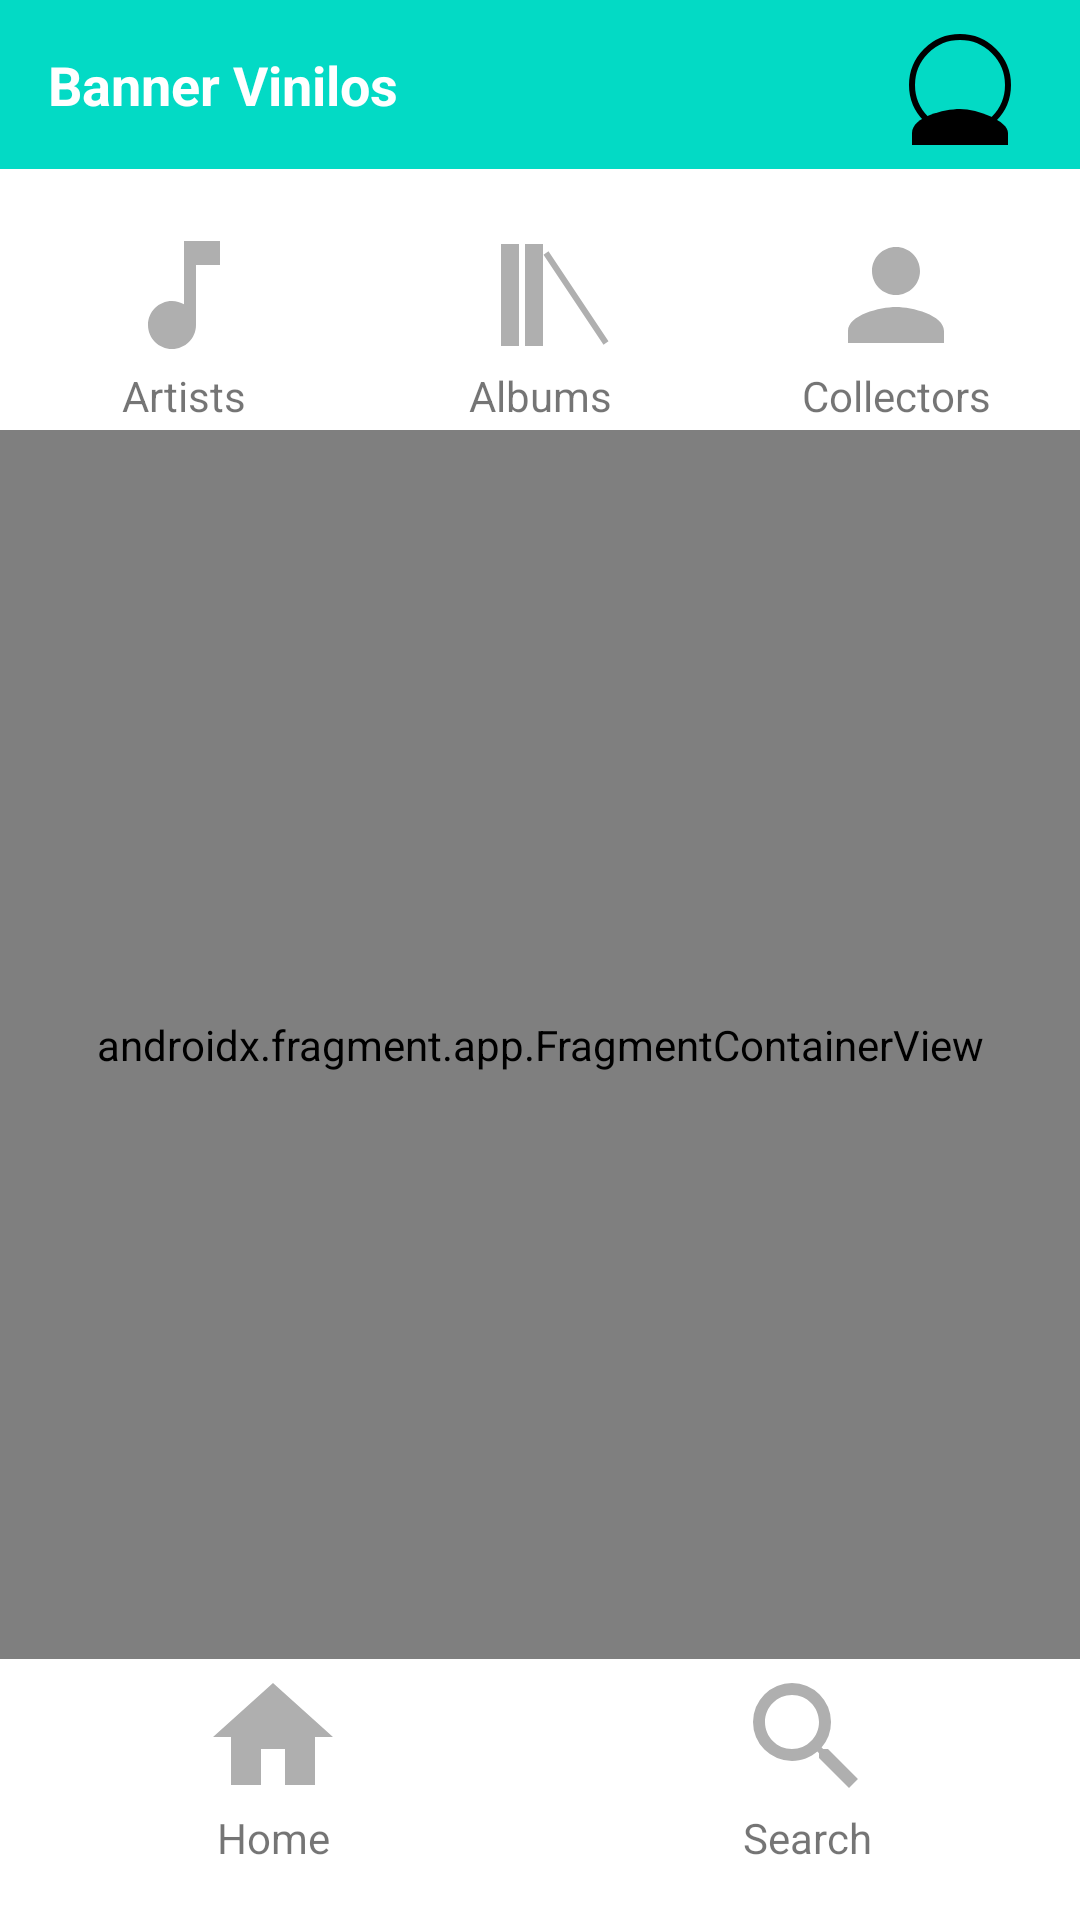

Icons on this 1080w x 1920h Android screen, each with its box as (x1, y1, x2, y2):
Icono de usuario: (909, 34, 1011, 145)
